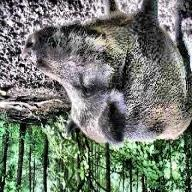boar: (12, 1, 192, 154)
